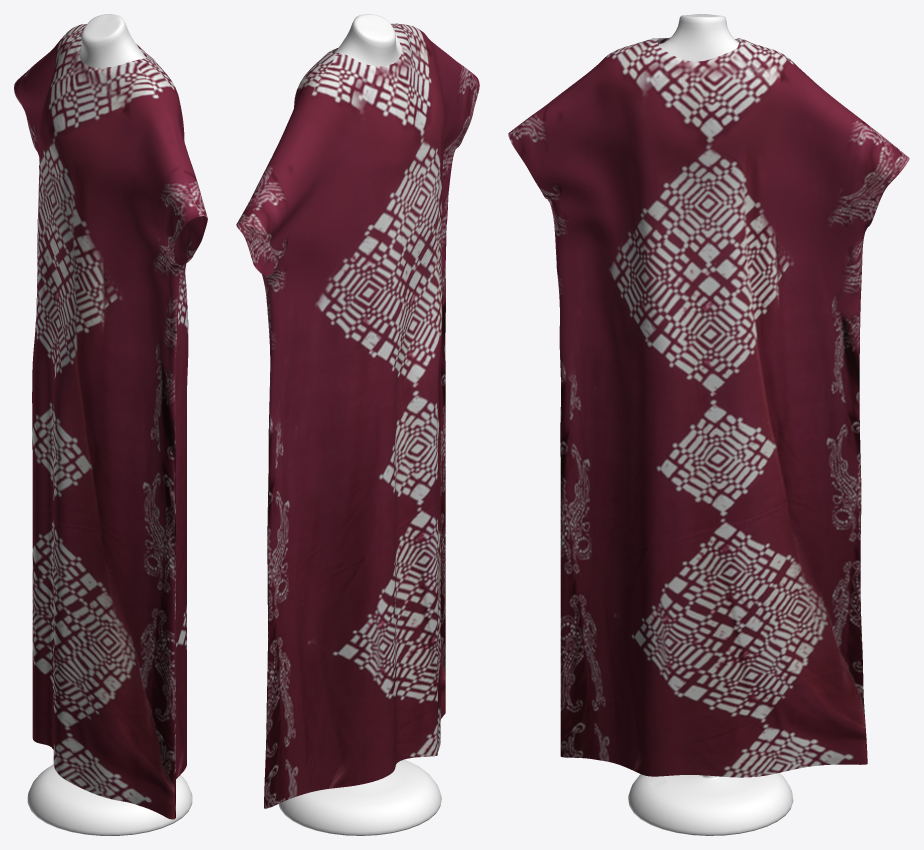
The picture shows the model from 3 angles, left to right: view 1: azimuth 30°, elevation 25°; view 2: azimuth 150°, elevation 25°; view 3: azimuth 270°, elevation 25°; orthographic projection.
Visible parts, largest first — view 1: polySurface16.003, polySurface17.001, polySurface18.004; view 2: polySurface16.003, polySurface17.001, polySurface18.004; view 3: polySurface16.003, polySurface17.001, polySurface18.004.
Boxes of the visible parts, <box> form: polySurface16.003: <box>14,24,207,819</box>; polySurface17.001: <box>27,764,192,835</box>; polySurface18.004: <box>79,14,145,67</box>; polySurface16.003: <box>236,23,479,808</box>; polySurface17.001: <box>278,759,441,835</box>; polySurface18.004: <box>334,14,401,66</box>; polySurface16.003: <box>508,37,909,777</box>; polySurface17.001: <box>628,773,793,835</box>; polySurface18.004: <box>658,14,738,61</box>.
Size of the model in its own units: 29.77 by 156 by 72.3.
2 materials, 1 textured.
